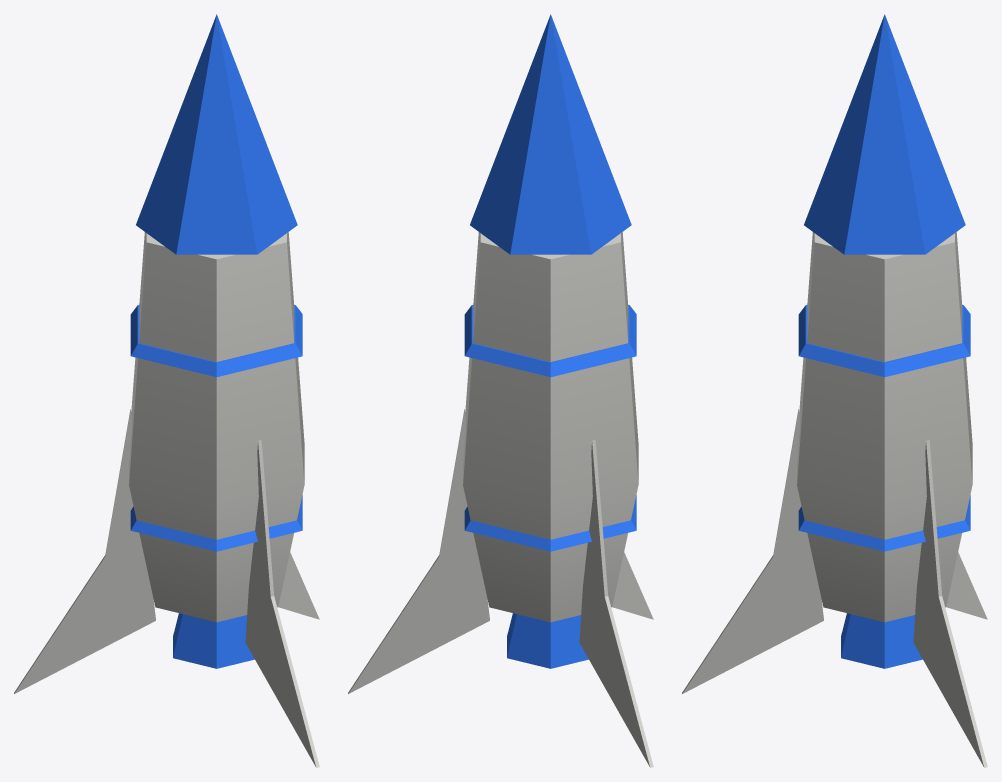
Rendered from Rocket_08_Origami.fbx.
The picture shows the model from 3 angles, left to right: view 1: azimuth 30°, elevation 25°; view 2: azimuth 150°, elevation 25°; view 3: azimuth 270°, elevation 25°; orthographic projection.
Parts seen in each view (by area): view 1: R08_Body, R08_Nose, R08_PaperFin_2, R08_PaperFin_3, R08_Nozzle, R08_Fold_2, R08_Fold, R08_PaperFin; view 2: R08_Body, R08_Nose, R08_PaperFin, R08_PaperFin_2, R08_Nozzle, R08_Fold_2, R08_Fold, R08_PaperFin_3; view 3: R08_Body, R08_Nose, R08_PaperFin_3, R08_PaperFin, R08_Nozzle, R08_Fold_2, R08_Fold, R08_PaperFin_2.
Boxes of the visible parts, x1,y1,x2,y2 form: R08_Body: [129, 232, 304, 622]; R08_Nose: [136, 14, 297, 254]; R08_PaperFin_2: [14, 409, 155, 693]; R08_PaperFin_3: [245, 440, 319, 767]; R08_Nozzle: [173, 613, 254, 668]; R08_Fold_2: [130, 305, 302, 377]; R08_Fold: [130, 495, 302, 551]; R08_PaperFin: [278, 552, 319, 619]; R08_Body: [463, 232, 638, 622]; R08_Nose: [470, 14, 631, 254]; R08_PaperFin: [348, 409, 489, 693]; R08_PaperFin_2: [579, 440, 653, 767]; R08_Nozzle: [507, 613, 588, 668]; R08_Fold_2: [464, 305, 636, 377]; R08_Fold: [464, 495, 636, 551]; R08_PaperFin_3: [612, 552, 653, 619]; R08_Body: [797, 232, 972, 622]; R08_Nose: [804, 14, 965, 254]; R08_PaperFin_3: [682, 409, 823, 693]; R08_PaperFin: [913, 440, 987, 767]; R08_Nozzle: [841, 613, 922, 668]; R08_Fold_2: [798, 305, 970, 377]; R08_Fold: [798, 495, 970, 551]; R08_PaperFin_2: [946, 552, 987, 619].
Bounding box in the file's own units: 3.48 × 7.4 × 3.02.
